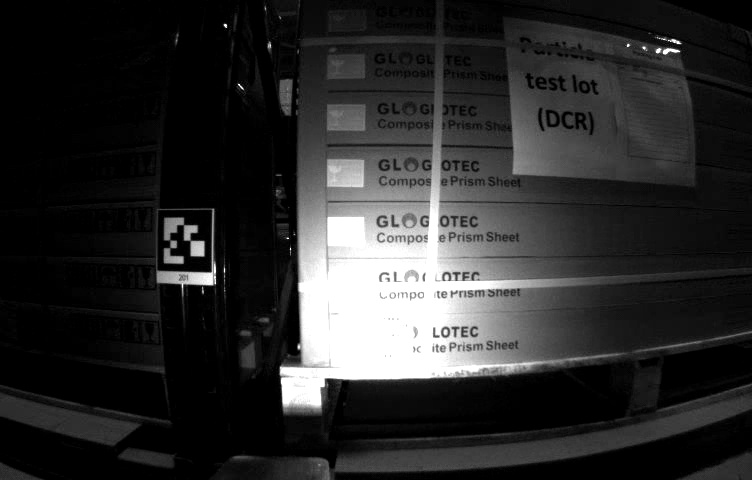True Barcode: (354, 309, 416, 367)
